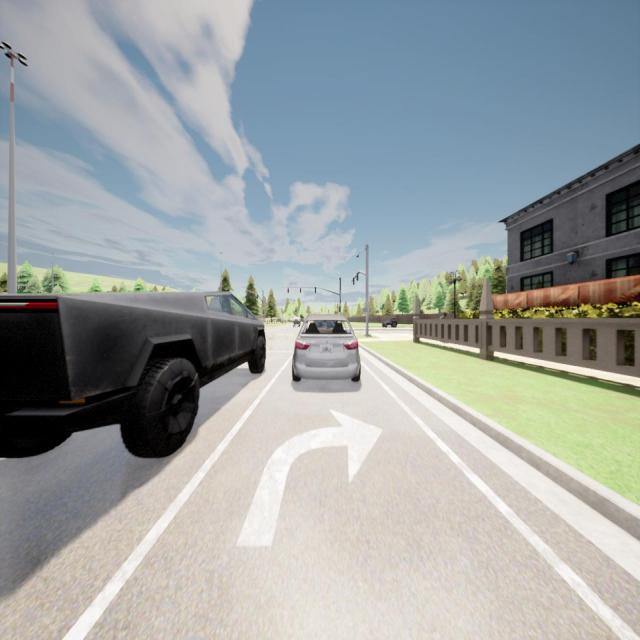Pedestrian: (439, 311, 448, 321)
Vehicle: (0, 288, 265, 458), (292, 314, 360, 381), (382, 317, 397, 328), (292, 317, 302, 328)
traffic_light: (356, 272, 359, 280), (352, 278, 355, 284), (299, 288, 302, 293), (288, 288, 290, 294), (314, 288, 316, 294)
